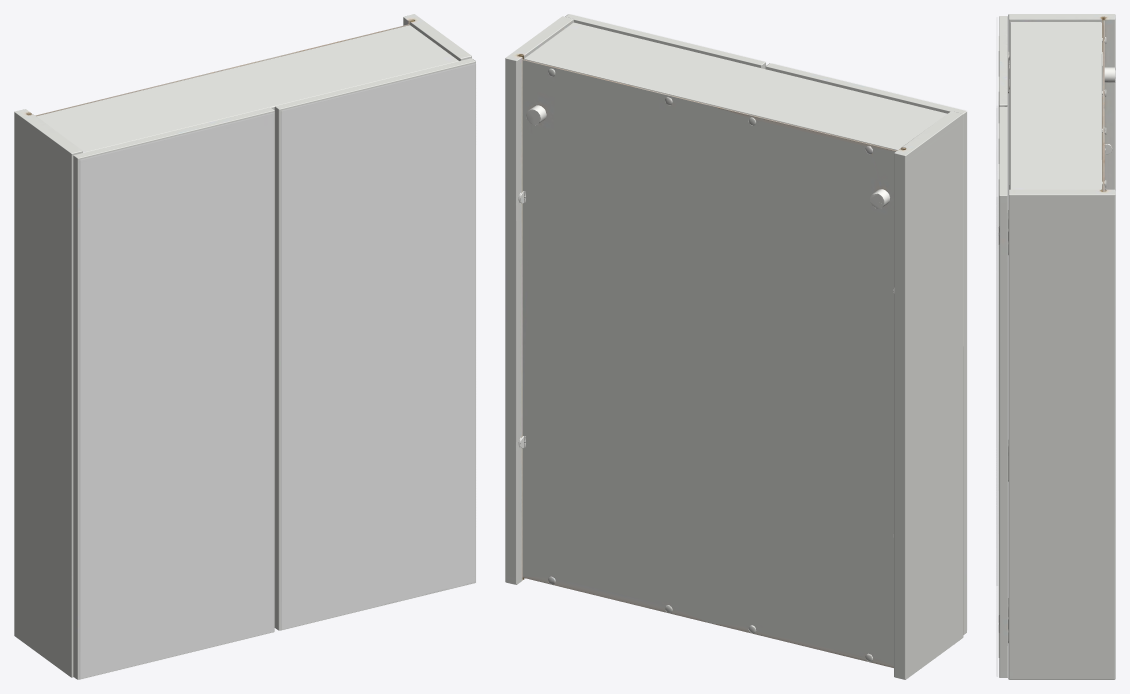
File: bathroom_mirror_cabinet_50623044.glb
3 views of the same model, side by side, from view 1: azimuth 30°, elevation 25°; view 2: azimuth 150°, elevation 25°; view 3: azimuth 270°, elevation 25° (orthographic). The views are drawn at different scales.
Parts seen in each view (by area): view 1: ASY_ART_50623044_S01_NV01; view 2: ASY_ART_50623044_S01_NV01; view 3: ASY_ART_50623044_S01_NV01.
Part boxes in pixels (x1,y1,x2,y2): ASY_ART_50623044_S01_NV01: [14, 14, 475, 679]; ASY_ART_50623044_S01_NV01: [505, 14, 966, 679]; ASY_ART_50623044_S01_NV01: [996, 14, 1115, 679].
Bounding box in the file's own units: 0.6 × 0.75 × 0.167.
2 materials, 2 textured.
